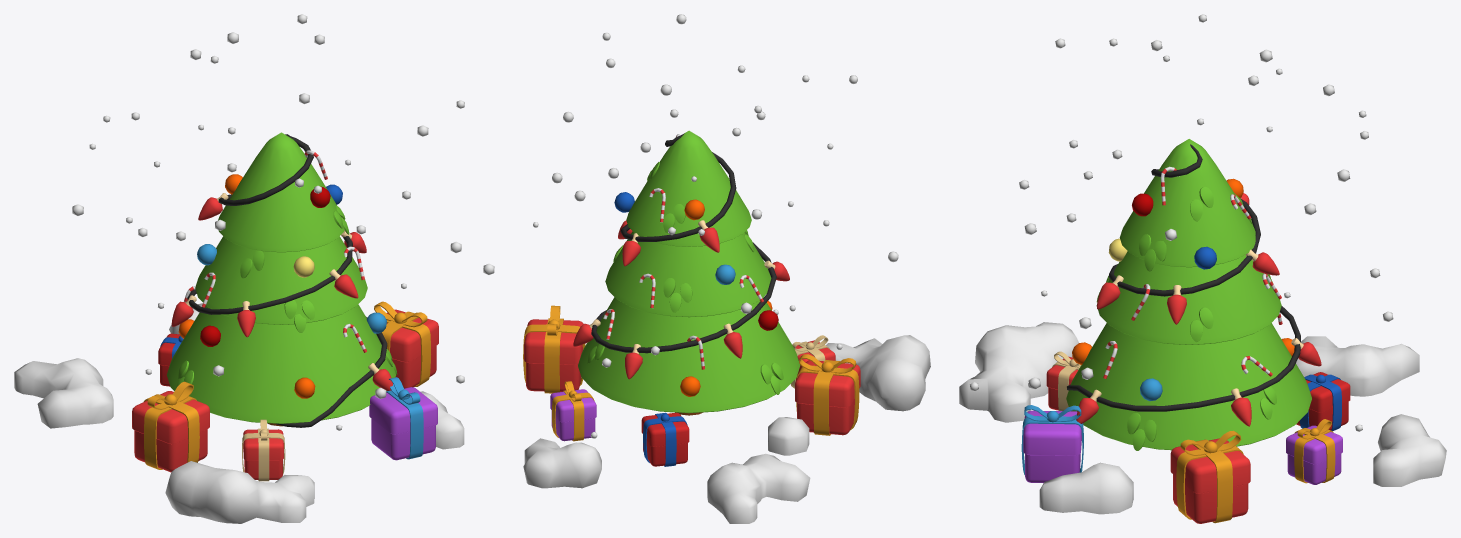
The model's file is ChristmasTree_Scene2.fbx.
3 renders of one model, left to right at view 1: azimuth 30°, elevation 25°; view 2: azimuth 150°, elevation 25°; view 3: azimuth 270°, elevation 25°, orthographic. The views are drawn at different scales.
Visible parts, largest first — view 1: ChristmasTree_Scene2; view 2: ChristmasTree_Scene2; view 3: ChristmasTree_Scene2.
Boxes of the visible parts, left/top/right/bottom form: ChristmasTree_Scene2: left=14, top=14, right=494, bottom=523; ChristmasTree_Scene2: left=523, top=14, right=930, bottom=523; ChristmasTree_Scene2: left=959, top=14, right=1446, bottom=523.
Bounding box in the file's own units: 9.08 × 10.37 × 9.99.
